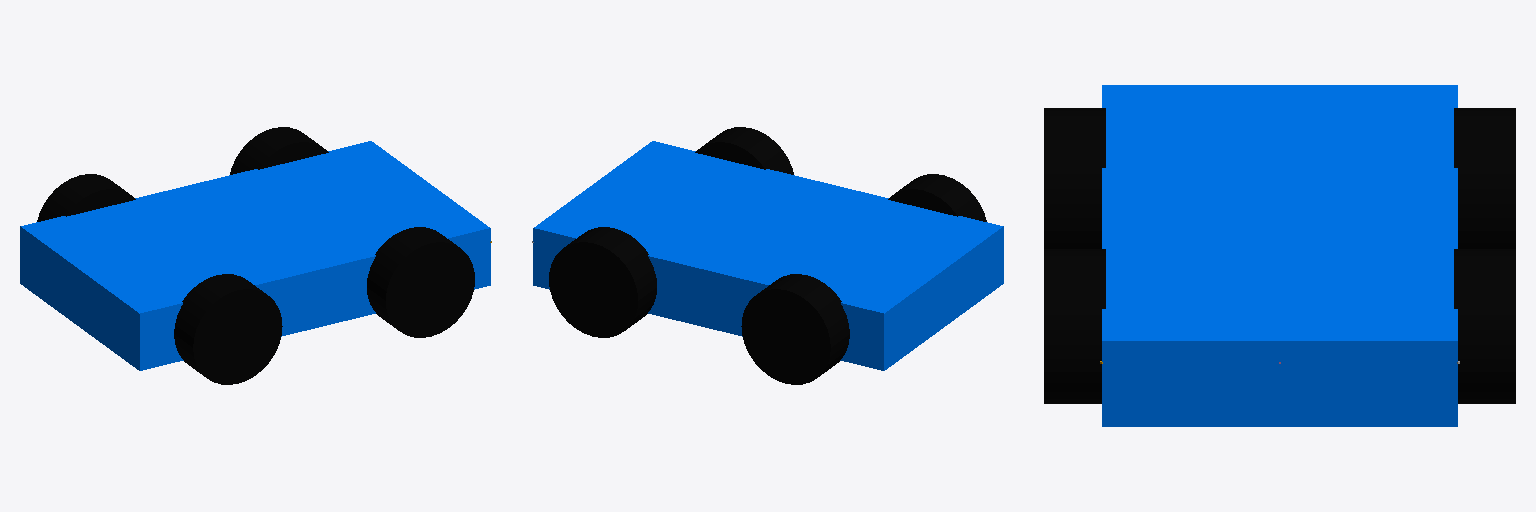
robot.urdf — hamer_mini:
<?xml version='1.0'?>
<robot name="hamer_mini">

	<link name="dummy">
	<!-- Dummy Link -->
   	</link>
	<!-- Dummy Joint -->
  	<joint name="dummy_joint" type="fixed">
     		<parent link="dummy"/>
     		<child link="base_link"/>
   	</joint>

	<!-- Base Link -->
	<link name="base_link">
	 	<visual>
		   <origin xyz="0 0 0" rpy="0 0 0" />
		   <geometry>
			<box size="0.255 0.150 0.04"/>
		   </geometry>
		   <material name="blue">
		      <color rgba="0 0.5 1 1"/>
		   </material>
		</visual>
		<!-- Base Collision -->
		<collision>
		   <origin xyz="0 0 0" rpy="0 0 0" />
		   <geometry>
			<box size="0.255 0.150 0.04"/>
		   </geometry>
		</collision>
		<!-- Base Inertial Elements -->
		<inertial>
		   <mass value="0.5"/>
		   <inertia ixx="0.002776" ixy="0.0" ixz="0.0"
			    iyy="0.003647" iyz="0.0" izz="0.001004"/>
		</inertial>
	</link>

	<!-- Right Back Wheel -->
	<link name="right_back_wheel">
	 	<visual>
		   <origin xyz="0 0 0" rpy="1.570795 0 0" />
		   <geometry>
			<cylinder length="0.026" radius="0.0325" />
		   </geometry>
		   <material name="black">
		      <color rgba="0.05 0.05 0.05 1"/>
		   </material>
		</visual>
		<!-- Right Back Wheel Collision -->
		<collision>
		   <origin xyz="0 0 0" rpy="1.570795 0 0" />
		   <geometry>
			<cylinder length="0.026" radius="0.0325" />
		   </geometry>
		</collision>
		<!-- Right Back Wheel Inertial Elements -->
		<inertial>
		   <mass value="0.01"/>
		   <inertia ixx="0.000003204" ixy="0.0" ixz="0.0"
			    iyy="0.000003204" iyz="0.0" izz="0.00005281"/>
		</inertial>
	</link>

	<joint name="joint_right_back_wheel" type="continuous">
	   <parent link="base_link"/>
	   <child link="right_back_wheel"/>
	   <origin xyz="-0.07 -0.086 0" rpy="0 0 0" />
	   <axis xyz="0 1 0"/>
	</joint>

	<!-- Right Front Wheel -->
	<link name="right_front_wheel">
	 	<visual>
		   <origin xyz="0 0 0" rpy="1.570795 0 0" />
		   <geometry>
			<cylinder length="0.026" radius="0.0325" />
		   </geometry>
		   <material name="black">
		      <color rgba="0.05 0.05 0.05 1"/>
		   </material>
		</visual>
		<!-- Right Front Wheel Collision -->
		<collision>
		   <origin xyz="0 0 0" rpy="1.570795 0 0" />
		   <geometry>
			<cylinder length="0.026" radius="0.0325" />
		   </geometry>
		</collision>
		<!-- Right Front Wheel Inertial Elements -->
		<inertial>
		   <mass value="0.01"/>
		   <inertia ixx="0.000003204" ixy="0.0" ixz="0.0"
			    iyy="0.000003204" iyz="0.0" izz="0.00005281"/>
		</inertial>
	</link>

	<joint name="joint_right_front_wheel" type="continuous">
	   <parent link="base_link"/>
	   <child link="right_front_wheel"/>
	   <origin xyz="0.07 -0.086 0" rpy="0 0 0" />
	   <axis xyz="0 1 0"/>
	</joint>

	<!-- Left Back Wheel -->
	<link name="left_back_wheel">
	 	<visual>
		   <origin xyz="0 0 0" rpy="1.570795 0 0" />
		   <geometry>
			<cylinder length="0.026" radius="0.0325" />
		   </geometry>
		   <material name="black">
		      <color rgba="0.05 0.05 0.05 1"/>
		   </material>
		</visual>
		<!-- Left Back Wheel Collision -->
		<collision>
		   <origin xyz="0 0 0" rpy="1.570795 0 0" />
		   <geometry>
			<cylinder length="0.026" radius="0.0325" />
		   </geometry>
		</collision>
		<!-- Left Back Wheel Inertial Elements -->
		<inertial>
		   <mass value="0.01"/>
		   <inertia ixx="0.000003204" ixy="0.0" ixz="0.0"
			    iyy="0.000003204" iyz="0.0" izz="0.00005281"/>
		</inertial>
	</link>

	<joint name="joint_left_back_wheel" type="continuous">
	   <parent link="base_link"/>
	   <child link="left_back_wheel"/>
	   <origin xyz="-0.07 0.086 0" rpy="0 0 0" />
	   <axis xyz="0 1 0"/>
	</joint>

	<!-- Left Front Wheel -->
	<link name="left_front_wheel">
	 	<visual>
		   <origin xyz="0 0 0" rpy="1.570795 0 0" />
		   <geometry>
			<cylinder length="0.026" radius="0.0325" />
		   </geometry>
		   <material name="black">
		      <color rgba="0.05 0.05 0.05 1"/>
		   </material>
		</visual>
		<!-- Left Front Wheel Collision -->
		<collision>
		   <origin xyz="0 0 0" rpy="1.570795 0 0" />
		   <geometry>
			<cylinder length="0.026" radius="0.0325" />
		   </geometry>
		</collision>
		<!--Left Front Wheel Inertial Elements -->
		<inertial>
		   <mass value="0.01"/>
		   <inertia ixx="0.000003204" ixy="0.0" ixz="0.0"
			    iyy="0.000003204" iyz="0.0" izz="0.00005281"/>
		</inertial>
	</link>

	<joint name="joint_left_front_wheel" type="continuous">
	   <parent link="base_link"/>
	   <child link="left_front_wheel"/>
	   <origin xyz="0.07 0.086 0" rpy="0 0 0" />
	   <axis xyz="0 1 0"/>
	</joint>

	<!-- Gazebo references -->
	<gazebo reference="base_link">
	   <material>Gazebo/Blue</material>
	</gazebo>
	<gazebo reference="right_front_wheel">
	   <material>Gazebo/Black</material>
	</gazebo>
	<gazebo reference="right_back_wheel">
	   <material>Gazebo/Black</material>
	</gazebo>
	<gazebo reference="left_front_wheel">
	   <material>Gazebo/Black</material>
	</gazebo>
	<gazebo reference="left_back_wheel">
	   <material>Gazebo/Black</material>
	</gazebo>

	<!-- Ultrasonic Sonar Sensors Links -->
	<link name="sonar_front">
		<collision>
			<origin xyz="0 0 0" rpy="0 0 0"/>
			<geometry>
				<box size="0.001 0.001 0.001"/>
			</geometry>
		</collision>
		<visual>
			<origin xyz="0 0 0" rpy="0 0 0"/>
			<geometry>
				<box size="0.001 0.001 0.001"/>
			</geometry>
		</visual> 
		<inertial>
			<mass value="1e-5" />
			<origin xyz="0 0 0" rpy="0 0 0"/>
			<inertia ixx="1e-6" ixy="0" ixz="0" iyy="1e-6" iyz="0" izz="1e-6" />
		</inertial>
	</link>

	<joint name="sonar_front_joint" type="fixed">
		<axis xyz="0 0 0" />
		<origin xyz="0.1275 0 0.01" rpy="0 0 0"/>
		<parent link="base_link"/>
		<child link="sonar_front"/>
	</joint>	

	<!-- <link name="sonar_back">
		<collision>
			<origin xyz="0 0 0" rpy="0 0 0"/>
			<geometry>
				<box size="0.001 0.001 0.001"/>
			</geometry>
		</collision>
		<visual>
			<origin xyz="0 0 0" rpy="0 0 0"/>
			<geometry>
				<box size="0.001 0.001 0.001"/>
			</geometry>
		</visual> 
		<inertial>
			<mass value="1e-5" />
			<origin xyz="0 0 0" rpy="0 0 0"/>
			<inertia ixx="1e-6" ixy="0" ixz="0" iyy="1e-6" iyz="0" izz="1e-6" />
		</inertial>
	</link>

	<joint name="sonar_back_joint" type="fixed">
		<axis xyz="0 0 0" />
		<origin xyz="-0.1275 0 0.01" rpy="0 3.14 0"/>
		<parent link="base_link"/>
		<child link="sonar_back"/>
	</joint> -->	

	<!-- Front-Left/Right Sonars -->
	<link name="sonar_left">
		<collision>
			<origin xyz="0 0 0" rpy="0 0 0"/>
			<geometry>
				<box size="0.001 0.001 0.001"/>
			</geometry>
		</collision>
		<visual>
			<origin xyz="0 0 0" rpy="0 0 0"/>
			<geometry>
				<box size="0.001 0.001 0.001"/>
			</geometry>
		</visual> 
		<inertial>
			<mass value="1e-5" />
			<origin xyz="0 0 0" rpy="0 0 0"/>
			<inertia ixx="1e-6" ixy="0" ixz="0" iyy="1e-6" iyz="0" izz="1e-6" />
		</inertial>
	</link>

	<joint name="sonar_left_joint" type="fixed">
		<axis xyz="0 0 0" />
		<origin xyz="0.1275 0.075 0.01" rpy="0 0 0.785"/>
		<parent link="base_link"/>
		<child link="sonar_left"/>
	</joint>	

	<link name="sonar_right">
		<collision>
			<origin xyz="0 0 0" rpy="0 0 0"/>
			<geometry>
				<box size="0.001 0.001 0.001"/>
			</geometry>
		</collision>
		<visual>
			<origin xyz="0 0 0" rpy="0 0 0"/>
			<geometry>
				<box size="0.001 0.001 0.001"/>
			</geometry>
		</visual> 
		<inertial>
			<mass value="1e-5" />
			<origin xyz="0 0 0" rpy="0 0 0"/>
			<inertia ixx="1e-6" ixy="0" ixz="0" iyy="1e-6" iyz="0" izz="1e-6" />
		</inertial>
	</link>

	<joint name="sonar_right_joint" type="fixed">
		<axis xyz="0 0 0" />
		<origin xyz="0.1275 -0.075 0.01" rpy="0 0 -0.785"/>
		<parent link="base_link"/>
		<child link="sonar_right"/>
	</joint>

	<!-- Ultrasonic Sonar Sensors Gazebo Ref. -->
	<gazebo reference="sonar_front">
		<material>Gazebo/Green</material>
		<sensor type="ray" name="sonar_front">
		  <pose>0 0 0 0 0 0</pose>
		  <update_rate>5</update_rate>
		  <ray>
		    <scan>
		      <horizontal>
		        <samples>5</samples>
		        <resolution>1.0</resolution>
		        <min_angle>-0.3</min_angle>
		        <max_angle>0.3</max_angle>
		      </horizontal>
		      <vertical>
		        <samples>5</samples>
		        <resolution>1</resolution>
		        <min_angle>-0.3</min_angle>
		        <max_angle>0.3</max_angle>
		      </vertical>
		    </scan>
		    <range>
		      <min>0.01</min>
		      <max>0.9</max>
		      <resolution>0.01</resolution>
		    </range>
		  </ray>
		  <plugin filename="libgazebo_ros_range.so" name="gazebo_ros_range">
		    <gaussianNoise>0.005</gaussianNoise>
		    <alwaysOn>true</alwaysOn>
		    <updateRate>5</updateRate>
		    <topicName>sonar_front</topicName>
		    <frameName>sonar_front</frameName>
		    <fov>0.7</fov>
		    <radiation>ultrasound</radiation>
		  </plugin>
		</sensor>
	</gazebo>

	<!--<gazebo reference="sonar_back">
		<material>Gazebo/Green</material>
		<sensor type="ray" name="sonar_back">
		  <pose>0 0 0 0 0 0</pose>
		  <update_rate>5</update_rate>
		  <ray>
		    <scan>
		      <horizontal>
		        <samples>5</samples>
		        <resolution>1.0</resolution>
		        <min_angle>-0.3</min_angle>
		        <max_angle>0.3</max_angle>
		      </horizontal>
		      <vertical>
		        <samples>5</samples>
		        <resolution>1</resolution>
		        <min_angle>-0.3</min_angle>
		        <max_angle>0.3</max_angle>
		      </vertical>
		    </scan>
		    <range>
		      <min>0.01</min>
		      <max>0.9</max>
		      <resolution>0.01</resolution>
		    </range>
		  </ray>
		  <plugin filename="libgazebo_ros_range.so" name="gazebo_ros_range">
		    <gaussianNoise>0.005</gaussianNoise>
		    <alwaysOn>true</alwaysOn>
		    <updateRate>5</updateRate>
		    <topicName>sonar_back</topicName>
		    <frameName>sonar_back</frameName>
		    <fov>0.7</fov>
		    <radiation>ultrasound</radiation>
		  </plugin>
		</sensor>
	</gazebo> -->
	
	
	<gazebo reference="sonar_left">
		<material>Gazebo/Green</material>
		<sensor type="ray" name="sonar_left">
		  <pose>0 0 0 0 0 0</pose>
		  <update_rate>5</update_rate>
		  <ray>
		    <scan>
		      <horizontal>
		        <samples>5</samples>
		        <resolution>1.0</resolution>
		        <min_angle>-0.3</min_angle>
		        <max_angle>0.3</max_angle>
		      </horizontal>
		      <vertical>
		        <samples>5</samples>
		        <resolution>1</resolution>
		        <min_angle>-0.3</min_angle>
		        <max_angle>0.3</max_angle>
		      </vertical>
		    </scan>
		    <range>
		      <min>0.01</min>
		      <max>0.9</max>
		      <resolution>0.01</resolution>
		    </range>
		  </ray>
		  <plugin filename="libgazebo_ros_range.so" name="gazebo_ros_range">
		    <gaussianNoise>0.005</gaussianNoise>
		    <alwaysOn>true</alwaysOn>
		    <updateRate>5</updateRate>
		    <topicName>sonar_left</topicName>
		    <frameName>sonar_left</frameName>
		    <fov>0.7</fov>
		    <radiation>ultrasound</radiation>
		  </plugin>
		</sensor>
	</gazebo>

	<gazebo reference="sonar_right">
		<material>Gazebo/Green</material>
		<sensor type="ray" name="sonar_right">
		  <pose>0 0 0 0 0 0</pose>
		  <update_rate>5</update_rate>
		  <ray>
		    <scan>
		      <horizontal>
		        <samples>5</samples>
		        <resolution>1.0</resolution>
		        <min_angle>-0.3</min_angle>
		        <max_angle>0.3</max_angle>
		      </horizontal>
		      <vertical>
		        <samples>5</samples>
		        <resolution>1</resolution>
		        <min_angle>-0.3</min_angle>
		        <max_angle>0.3</max_angle>
		      </vertical>
		    </scan>
		    <range>
		      <min>0.01</min>
		      <max>0.9</max>
		      <resolution>0.01</resolution>
		    </range>
		  </ray>
		  <plugin filename="libgazebo_ros_range.so" name="gazebo_ros_range">
		    <gaussianNoise>0.005</gaussianNoise>
		    <alwaysOn>true</alwaysOn>
		    <updateRate>5</updateRate>
		    <topicName>sonar_right</topicName>
		    <frameName>sonar_right</frameName>
		    <fov>0.7</fov>
		    <radiation>ultrasound</radiation>
		  </plugin>
		</sensor>
	</gazebo>

	<!-- Differential Drive Plugin 
	<gazebo>
	    <plugin name="differential_drive_controller"
		    filename="libgazebo_ros_diff_drive.so">
		<leftJoint>joint_left_back_wheel</leftJoint>
		<rightJoint>joint_right_back_wheel</rightJoint>
		<robotBaseFrame>base_link</robotBaseFrame>
		<wheelSeparation>0.25</wheelSeparation>
		<wheelDiameter>0.07</wheelDiameter>
		<publishWheelJointState>true</publishWheelJointState>
	     </plugin>
	</gazebo>  -->
 
	<!-- Gazebo ROS Control Plugin and Planar Move Plugin -->
	<gazebo>
		<plugin name="gazebo_ros_control" filename="libgazebo_ros_control.so">
			<robotNamespace>/hamer_mini</robotNamespace>
			<robotSimType>gazebo_ros_control/DefaultRobotHWSim</robotSimType>
			<legacyModeNS>true</legacyModeNS>
		</plugin>
	</gazebo> 	

	<gazebo>
		<plugin name="base_controller" filename="libgazebo_ros_planar_move.so">
		    <commandTopic>cmd_vel</commandTopic>
		    <odometryTopic>odom</odometryTopic>
		    <odometryFrame>odom</odometryFrame>
		    <odometryRate>100</odometryRate>
		    <robotBaseFrame>base_link</robotBaseFrame>
		</plugin>
	</gazebo> 

</robot> 

--- Facts derived from the render (not from the file) ---
The picture shows the robot from 3 angles, left to right: view 1: azimuth 30°, elevation 25°; view 2: azimuth 150°, elevation 25°; view 3: azimuth 270°, elevation 25°; orthographic projection.
Model hamer_mini with 9 links and 8 joints (4 continuous, 4 fixed), rooted at dummy, posed all joints at 0.
Links seen in each view (by area): view 1: base_link, right_back_wheel, right_front_wheel, left_back_wheel, left_front_wheel; view 2: base_link, left_back_wheel, left_front_wheel, right_back_wheel, right_front_wheel; view 3: base_link, right_front_wheel, left_front_wheel, right_back_wheel, left_back_wheel.
Boxes of the visible links, left/top/right/bottom form: base_link: left=20, top=141, right=490, bottom=370; right_back_wheel: left=174, top=274, right=282, bottom=384; right_front_wheel: left=367, top=227, right=474, bottom=337; left_back_wheel: left=37, top=174, right=135, bottom=221; left_front_wheel: left=230, top=127, right=328, bottom=174; base_link: left=533, top=141, right=1003, bottom=370; left_back_wheel: left=741, top=274, right=849, bottom=384; left_front_wheel: left=549, top=227, right=656, bottom=337; right_back_wheel: left=888, top=174, right=986, bottom=221; right_front_wheel: left=695, top=127, right=793, bottom=174; base_link: left=1102, top=85, right=1457, bottom=426; right_front_wheel: left=1044, top=249, right=1105, bottom=403; left_front_wheel: left=1454, top=249, right=1515, bottom=403; right_back_wheel: left=1044, top=108, right=1105, bottom=248; left_back_wheel: left=1454, top=108, right=1515, bottom=248.
Bounding box of the posed robot: 0.2557 × 0.198 × 0.065 m (x, y, z).
Geometry: primitives only (box / cylinder / sphere), no mesh files.
